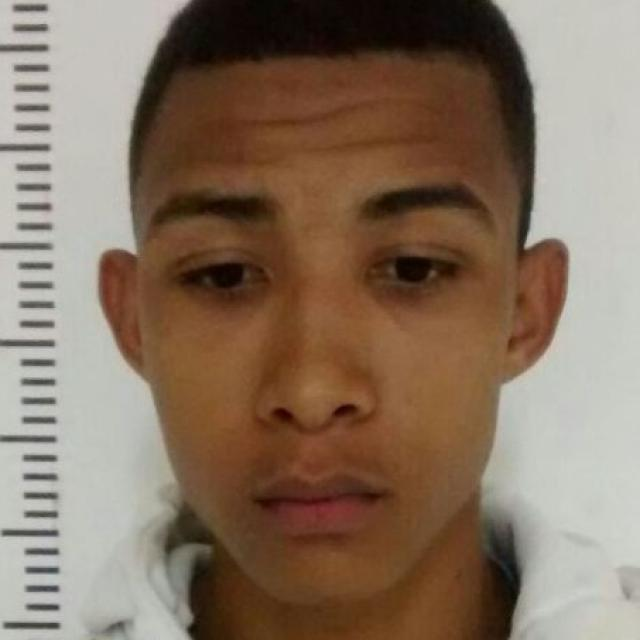Depress: (130, 64, 522, 614)
